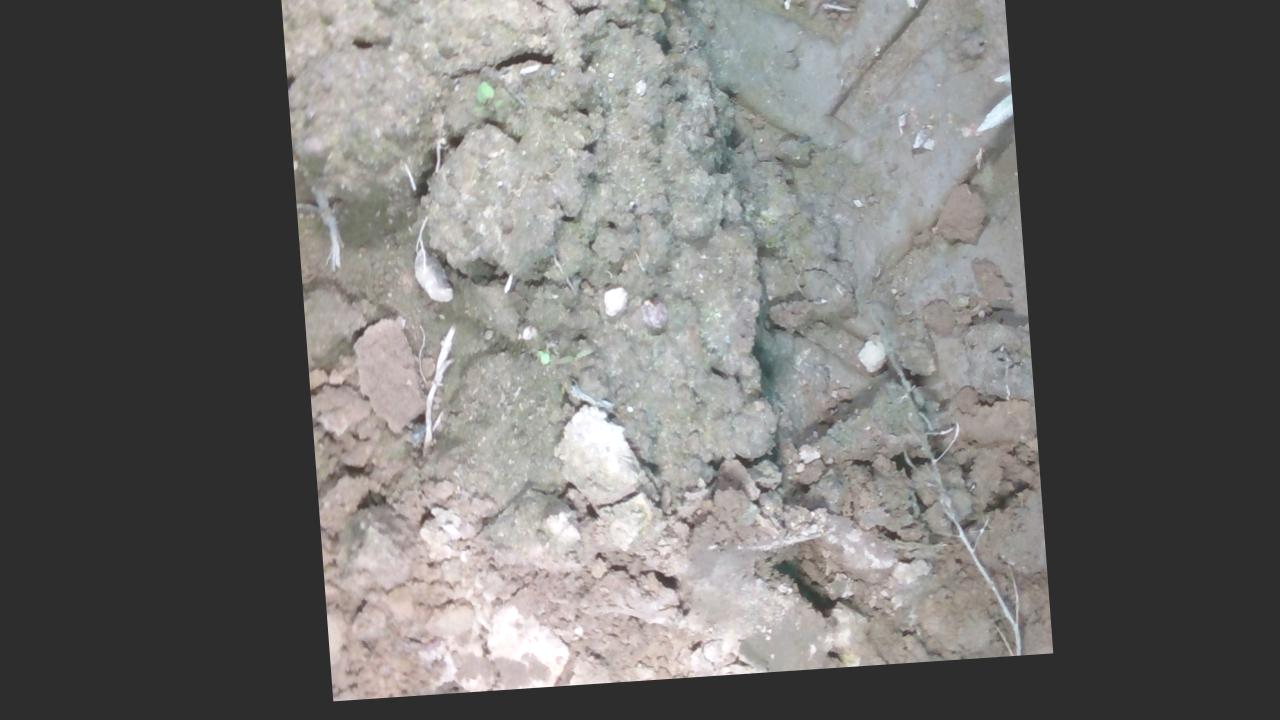weed: (471, 82, 495, 119)
